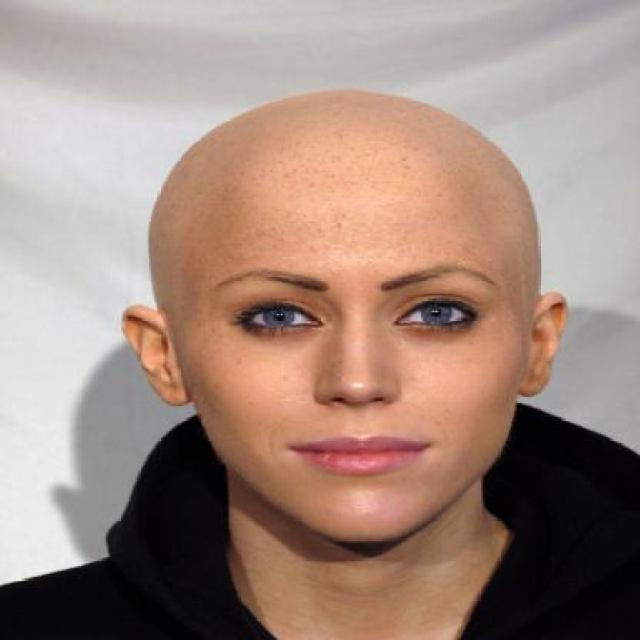no_helmet: (119, 80, 563, 297)
